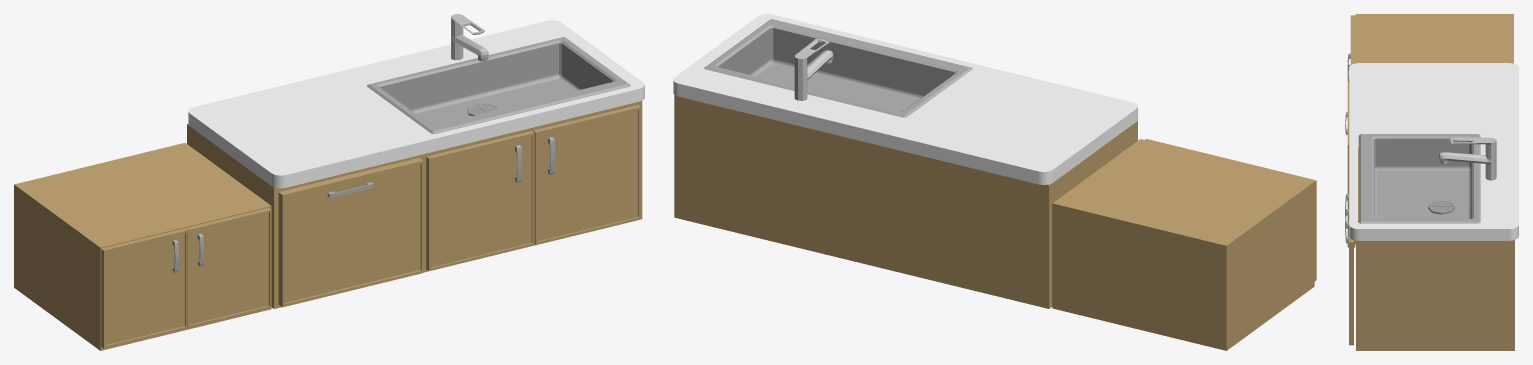
Rendered from Kitchen.fbx.
3 views of the same model, side by side, from view 1: azimuth 30°, elevation 25°; view 2: azimuth 150°, elevation 25°; view 3: azimuth 270°, elevation 25° (orthographic). The views are drawn at different scales.
Parts seen in each view (by area): view 1: polySurface289, polySurface296, polySurface287, suidou2:polySurface1, polySurface498, polySurface283, polySurface299, polySurface300, polySurface242, suidou2:pCylinder1; view 2: polySurface242, polySurface296, polySurface289, suidou2:polySurface1, suidou2:pCylinder1, polySurface299; view 3: polySurface289, polySurface242, suidou2:polySurface1, polySurface296, suidou2:pCylinder1, polySurface283, polySurface287, suidou2:pCylinder3, polySurface299.
Boxes of the visible parts, x1,y1,x2,y2 form: polySurface289: (188, 20, 644, 188); polySurface296: (14, 143, 271, 350); polySurface287: (278, 158, 423, 307); suidou2:polySurface1: (367, 37, 630, 133); polySurface498: (426, 131, 534, 270); polySurface283: (533, 105, 641, 244); polySurface299: (101, 228, 187, 348); polySurface300: (185, 208, 271, 327); polySurface242: (187, 101, 642, 308); suidou2:pCylinder1: (451, 14, 488, 61); polySurface242: (674, 95, 1137, 308); polySurface296: (1052, 139, 1314, 350); polySurface289: (673, 14, 1137, 184); suidou2:polySurface1: (704, 19, 972, 117); suidou2:pCylinder1: (794, 38, 833, 100); polySurface299: (1230, 159, 1316, 281); polySurface289: (1349, 63, 1518, 240); polySurface242: (1356, 147, 1514, 350); suidou2:polySurface1: (1358, 134, 1480, 223); polySurface296: (1355, 14, 1513, 63); suidou2:pCylinder1: (1438, 137, 1496, 180); polySurface283: (1349, 195, 1353, 345); polySurface287: (1347, 82, 1355, 247); suidou2:pCylinder3: (1428, 200, 1454, 214); polySurface299: (1350, 15, 1355, 52).
Size of the model in its own units: 392 by 121 by 118.
